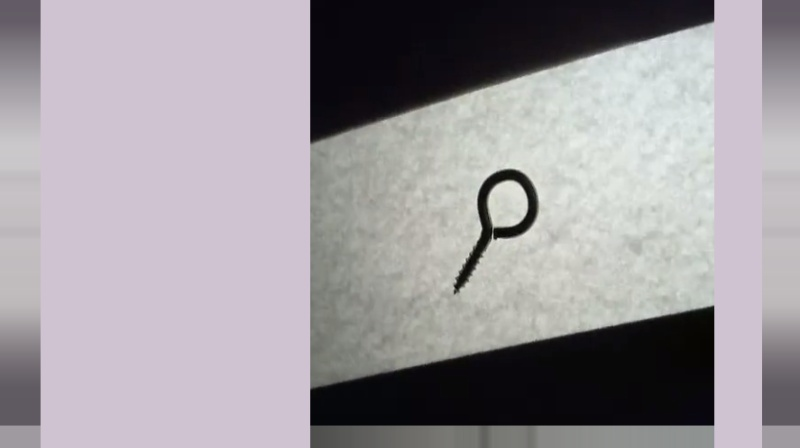O001: (450, 166, 541, 298)
